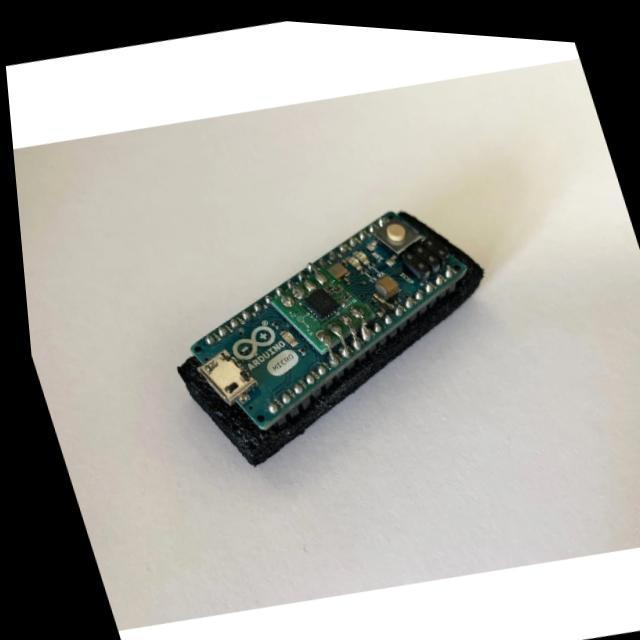Arduino-Micro: (179, 212, 483, 465)
